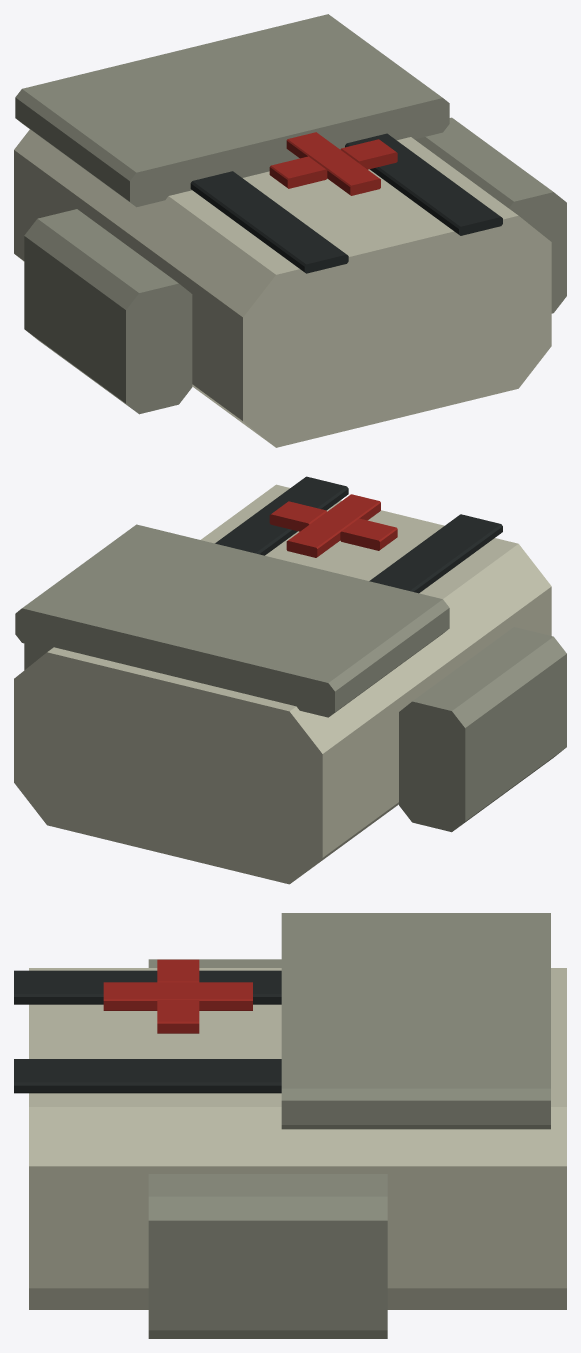
Rendered from MedicPack.gltf.
3 renders of one model, top to bottom at view 1: azimuth 30°, elevation 25°; view 2: azimuth 150°, elevation 25°; view 3: azimuth 270°, elevation 25°, orthographic. The views are drawn at different scales.
Visible parts, largest first — view 1: MedicPack; view 2: MedicPack; view 3: MedicPack.
Part boxes in pixels (x1=…): MedicPack: x1=14, y1=14, x2=566, y2=447; MedicPack: x1=14, y1=476, x2=566, y2=884; MedicPack: x1=14, y1=913, x2=566, y2=1338.
Bounding box in the file's own units: 0.4 × 0.1845 × 0.37.
